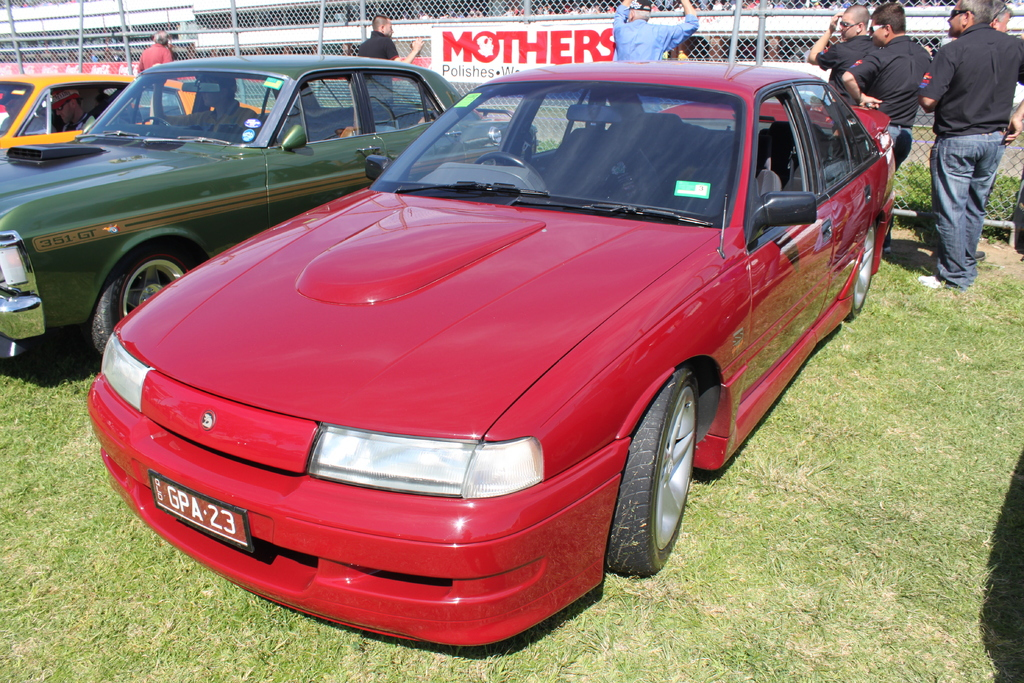Car: (80, 64, 923, 645), (0, 44, 476, 372), (0, 67, 268, 157)
